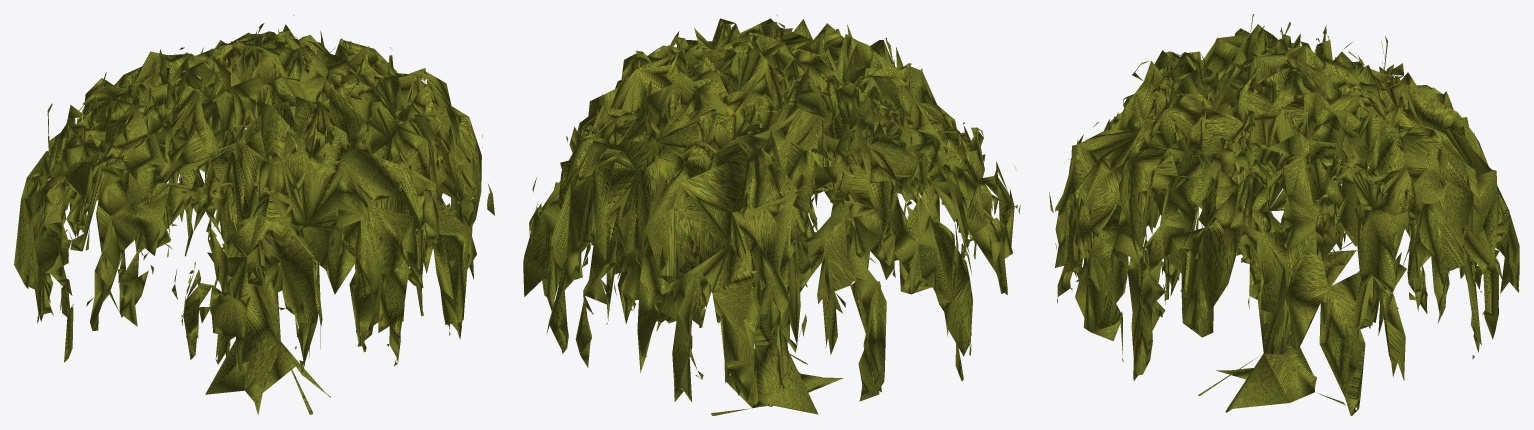
The model's file is lib_willow.mid.glb.
3 views of the same model, side by side, from view 1: azimuth 30°, elevation 25°; view 2: azimuth 150°, elevation 25°; view 3: azimuth 270°, elevation 25° (orthographic). The views are drawn at different scales.
Parts seen in each view (by area): view 1: output_unwrapped; view 2: output_unwrapped; view 3: output_unwrapped.
Part boxes in pixels (box(x1,y1,x2,y2)): output_unwrapped: box(14, 15, 494, 415); output_unwrapped: box(523, 14, 1020, 415); output_unwrapped: box(1049, 14, 1519, 415).
Size of the model in its own units: 1.94 by 1.6 by 1.95.
Materials: 1 (1 with a texture image).
